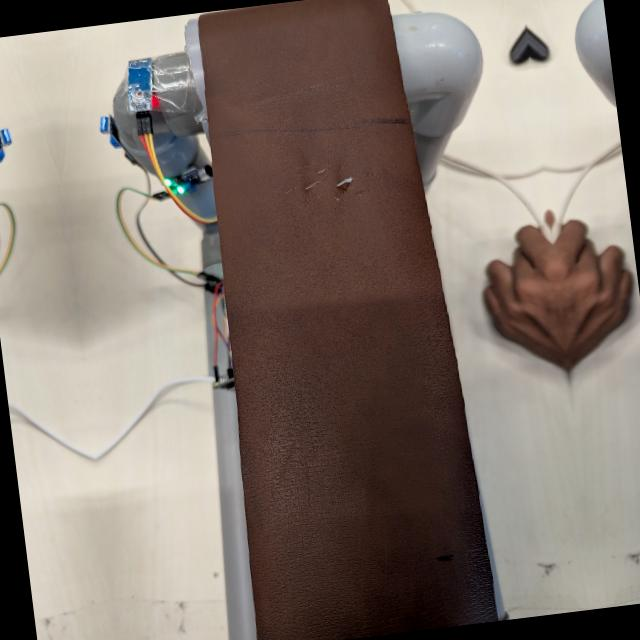belt_crack: (267, 129, 398, 213)
